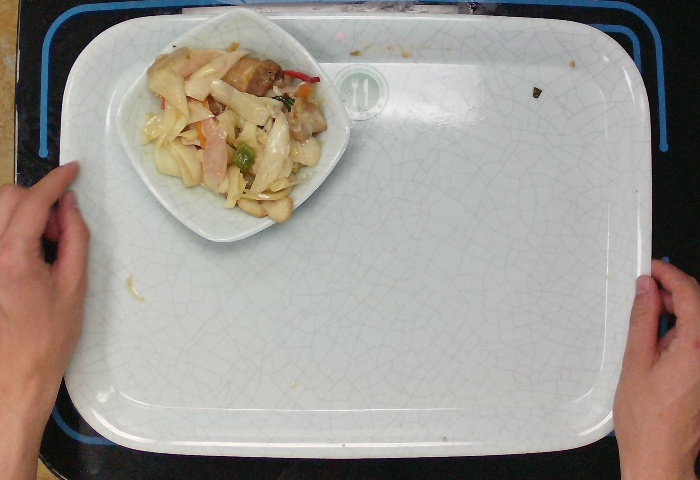WCQzf-Da_Si_Fang_Die: (111, 4, 351, 245)
